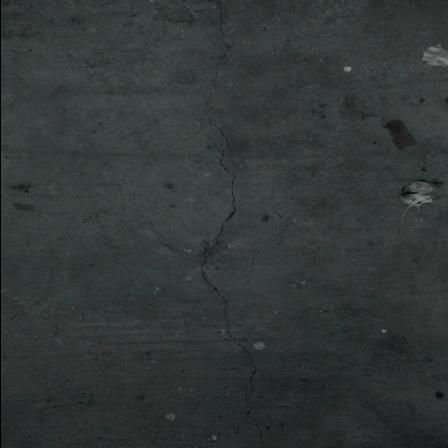crack: (176, 0, 265, 448)
